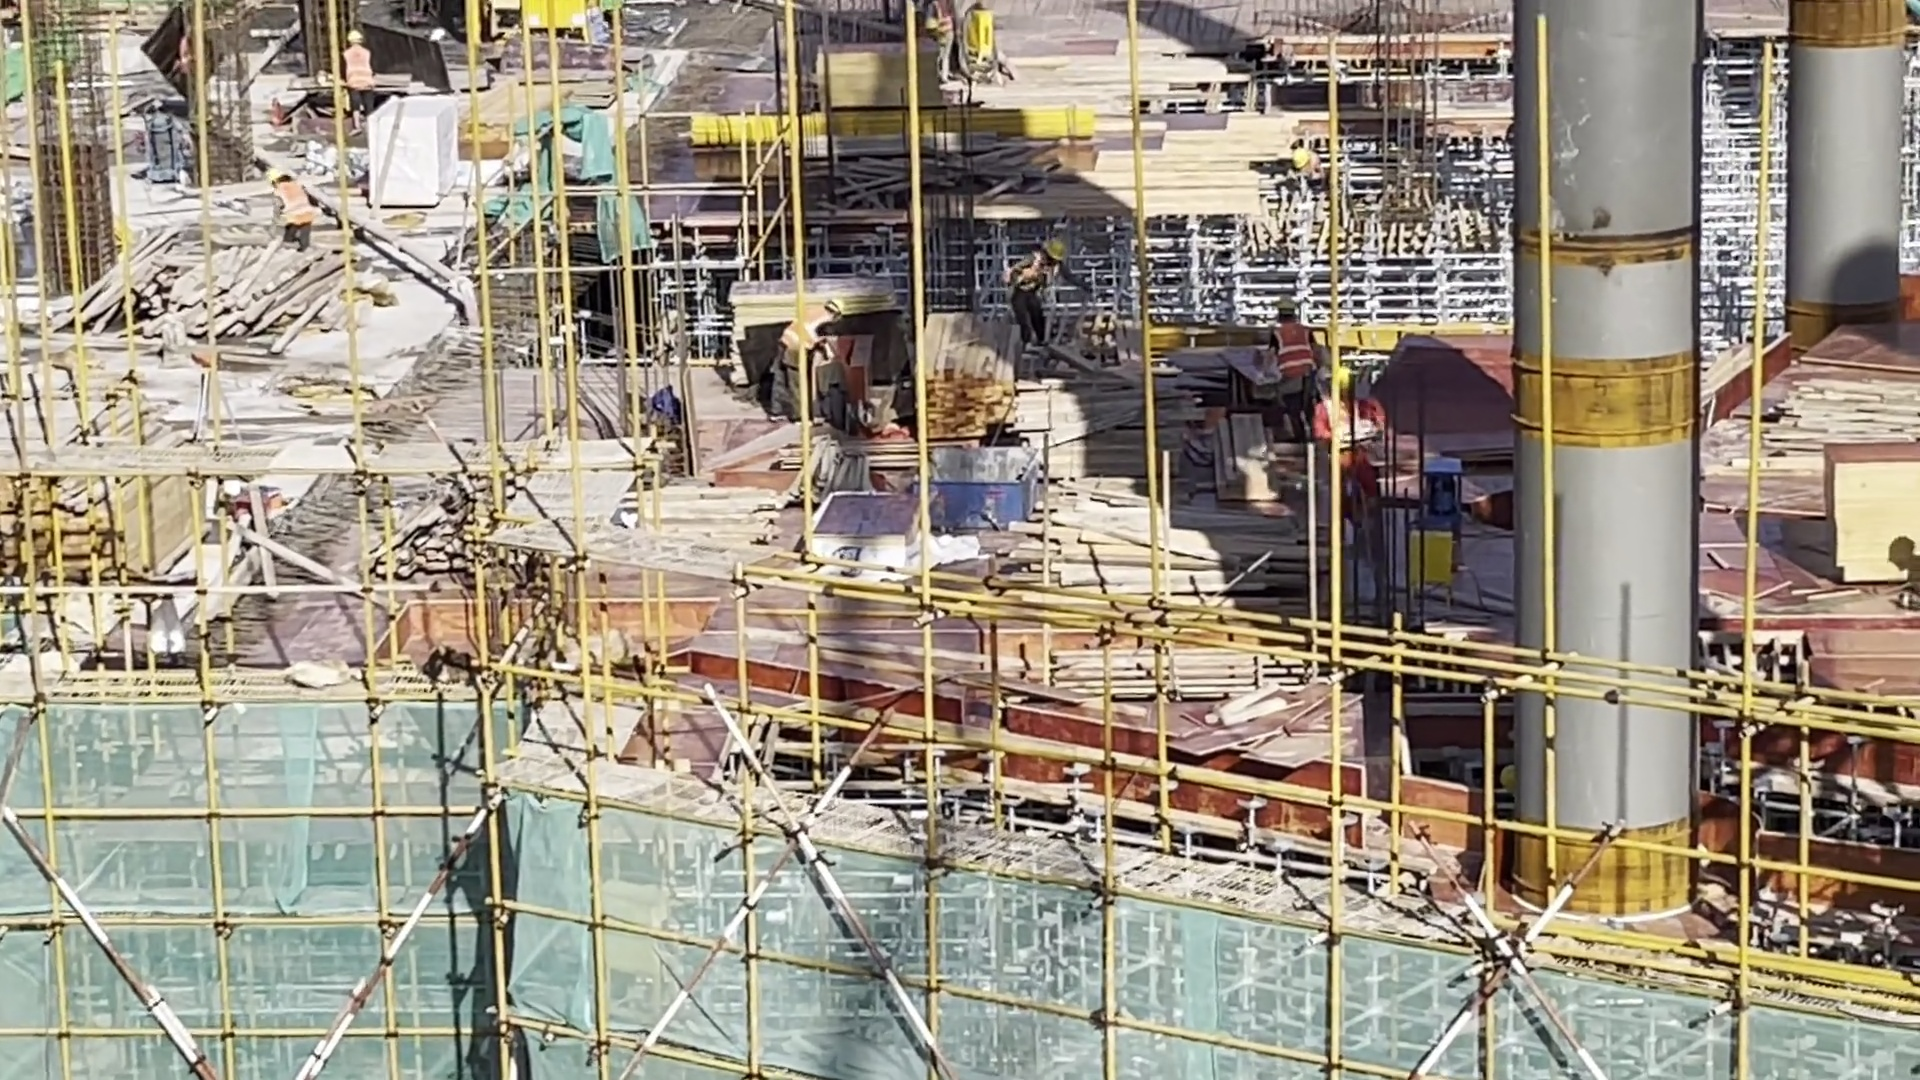helmet: (1041, 235, 1070, 266), (818, 294, 849, 320), (1276, 296, 1298, 318), (348, 28, 368, 48), (1293, 147, 1312, 168)
person: (762, 285, 861, 440), (1316, 367, 1385, 559), (1009, 234, 1066, 368), (1269, 298, 1318, 444), (270, 161, 330, 270), (344, 20, 381, 134), (1289, 149, 1335, 206)
vest: (1320, 392, 1381, 458), (777, 307, 825, 378), (1274, 322, 1316, 379), (271, 183, 319, 234), (345, 44, 378, 97)
